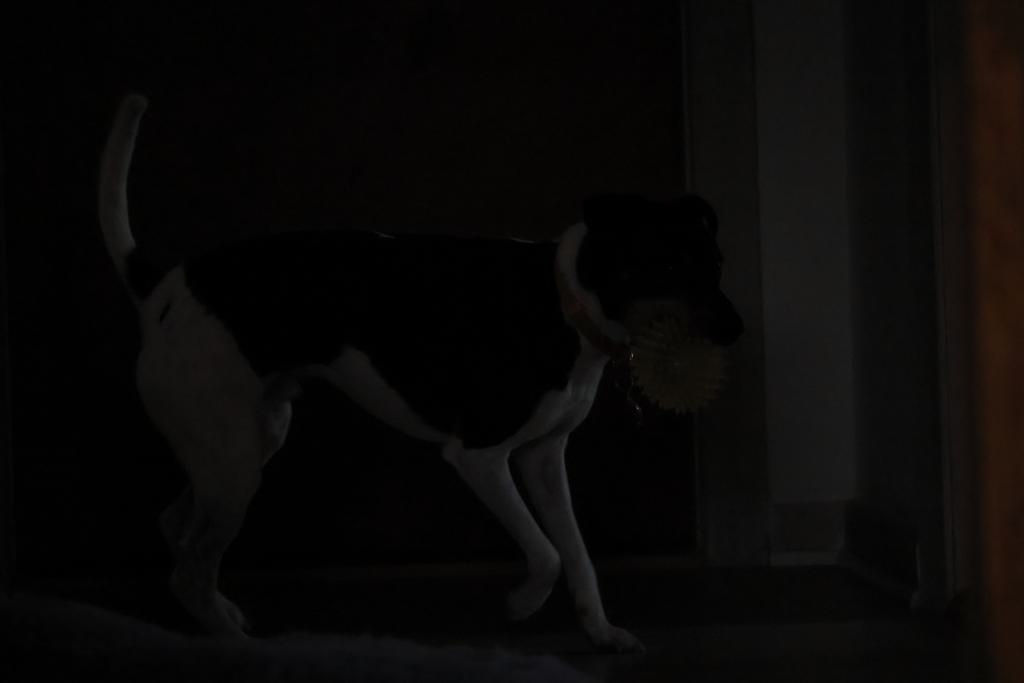Dog: (88, 81, 757, 665)
